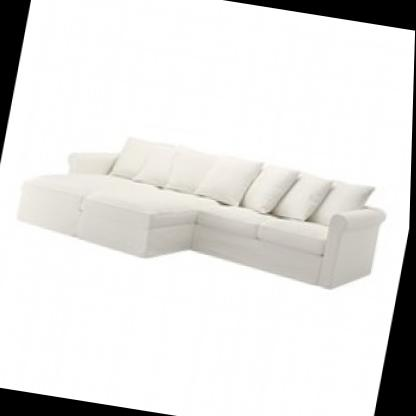Sofa: (0, 101, 404, 323)
